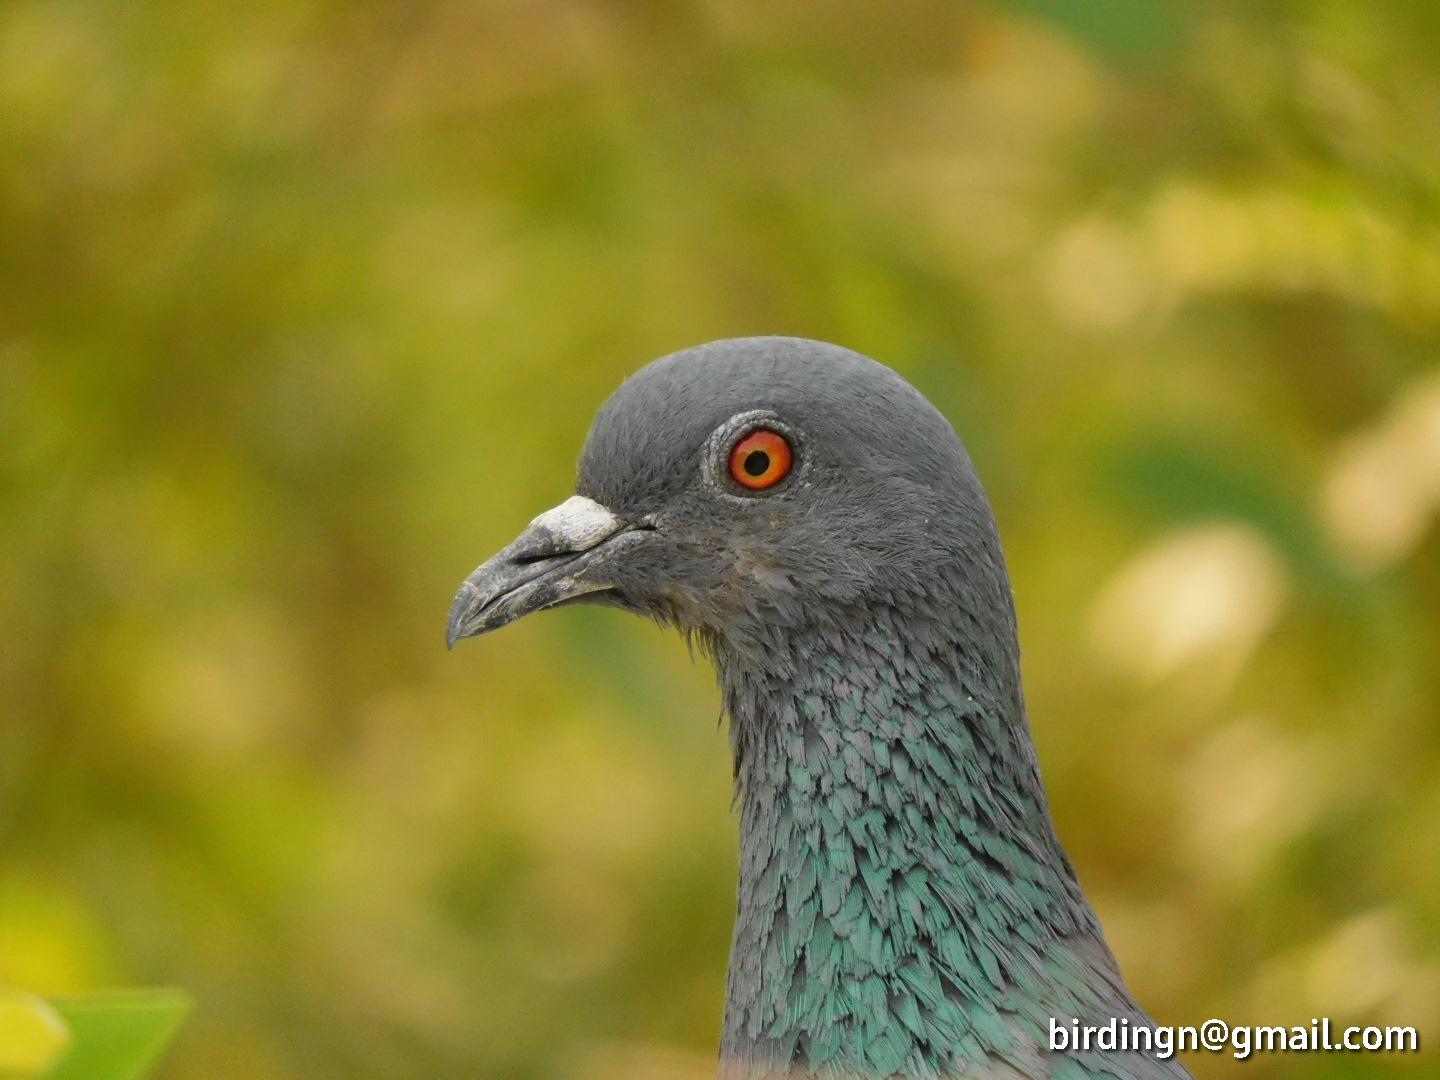Flying Rat: (449, 334, 1217, 1080)
